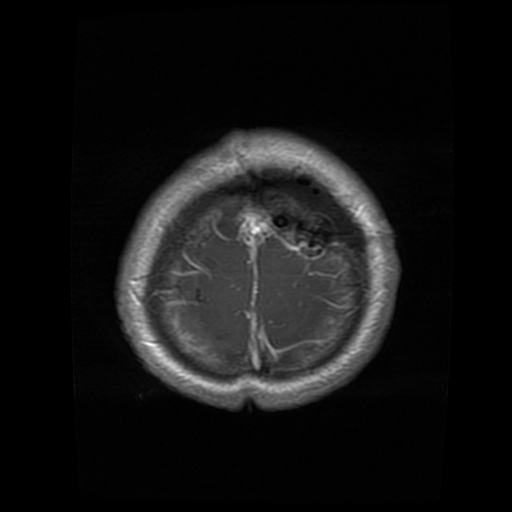glioma: (208, 170, 356, 246)
